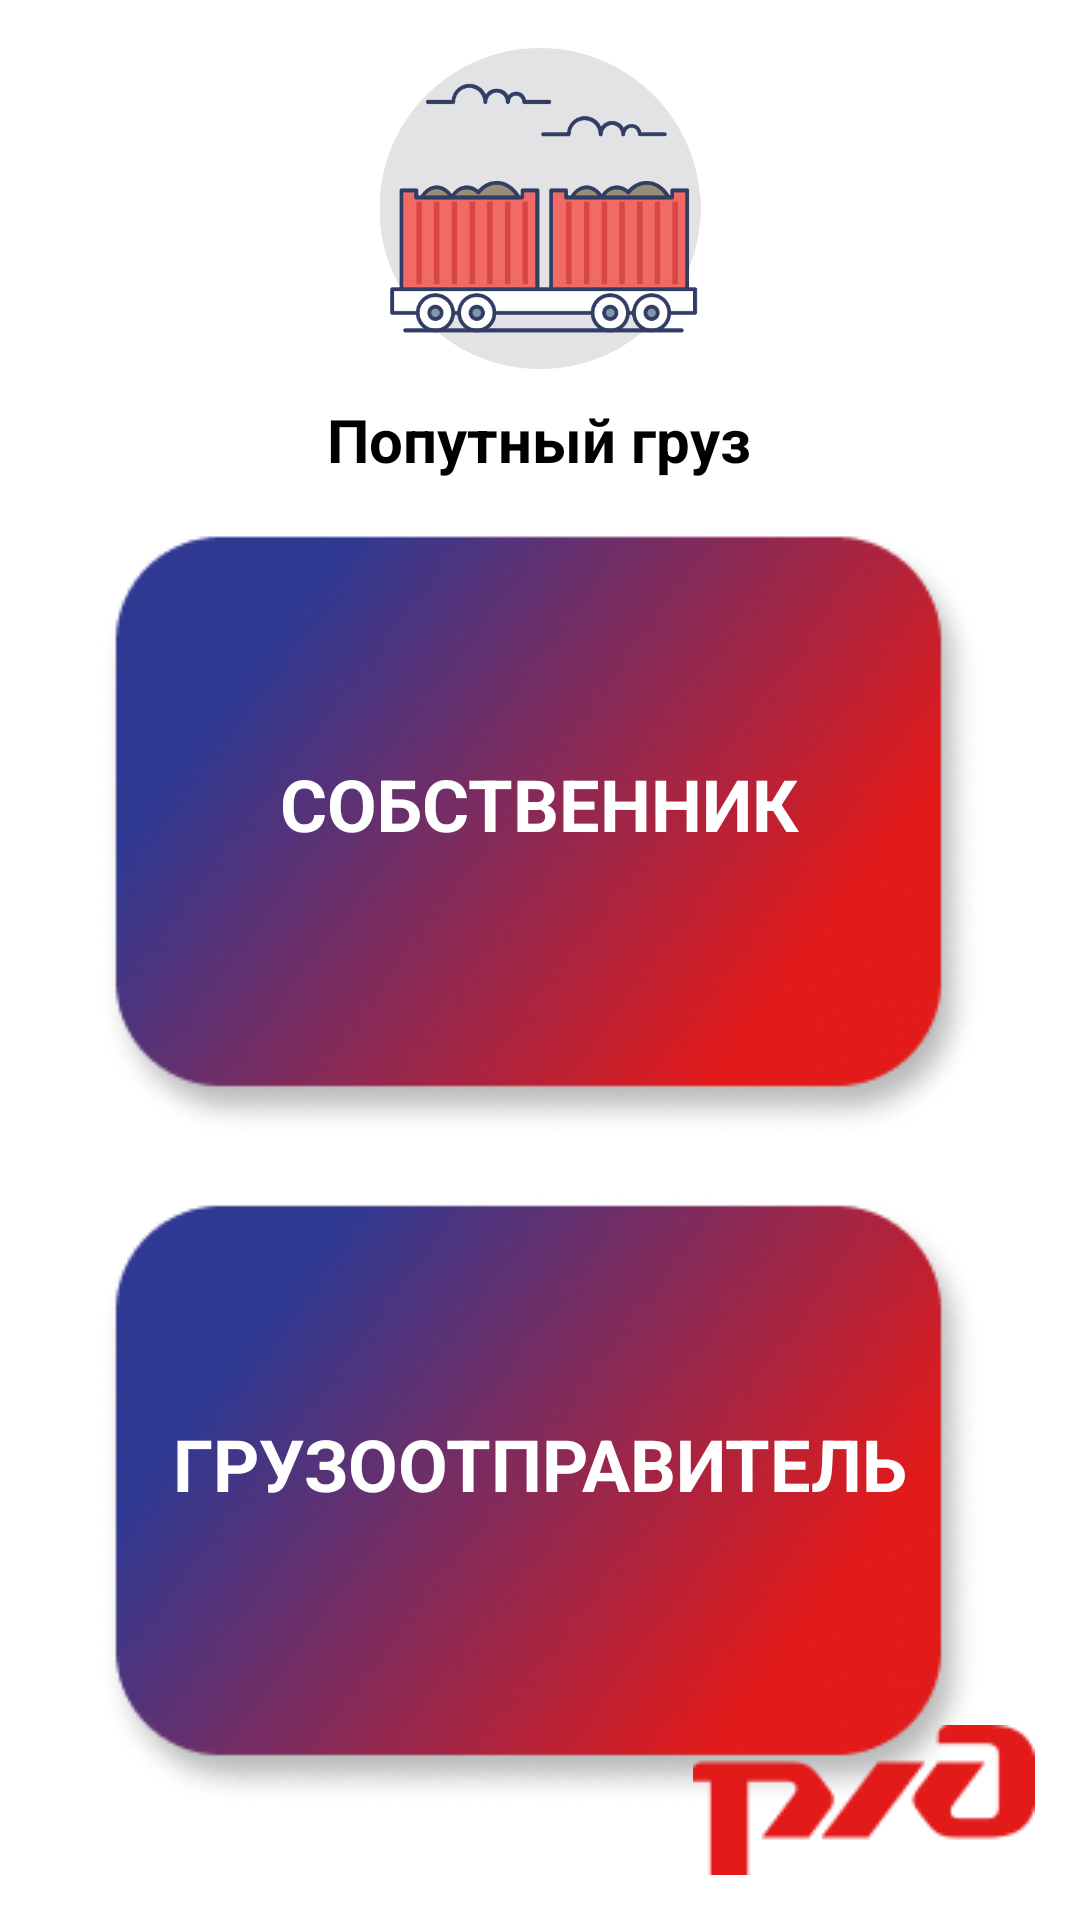

Named icons in this screenshot (1080x1920) and their bounding boxes, Rect(x1, y1, x2, y2):
cargo train: Rect(380, 48, 701, 369)
